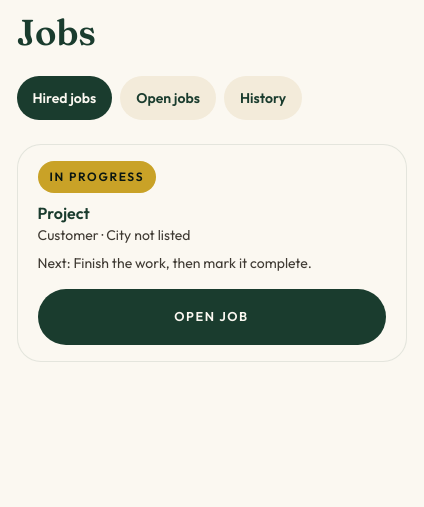
Test: Jobs page after passing a job › hides Pass on this job when the contractor is already hired
Click the button "Open jobs" at point(168, 98), box [120,76,216,120]
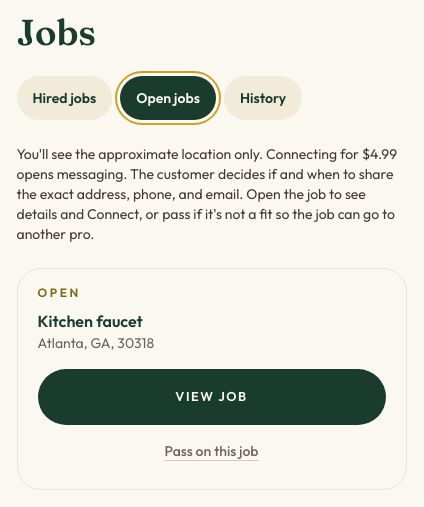
Now the text "Kitchen faucet" is shown, box [38,311,143,331]
Now the number of buttons "Pass on this job" is 1, box [156,429,266,473]
